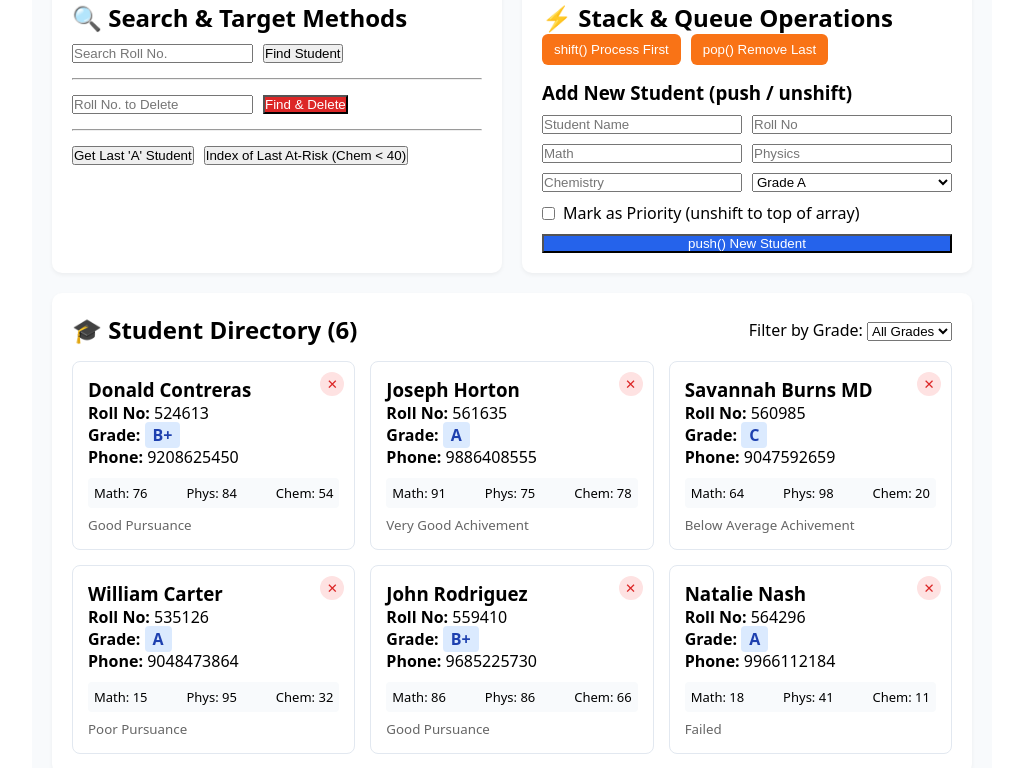
StudentDashboard Component › Card removal by index (handleRemoveCardByIndex - splice) › should remove a specific student card when its delete button is clicked
(page scrolled)
Expected: the heading "Donald Contreras" is shown, [88, 377, 251, 402]
Click the 1st button titled "Remove with splice()": [332, 384] box [320, 372, 344, 396]
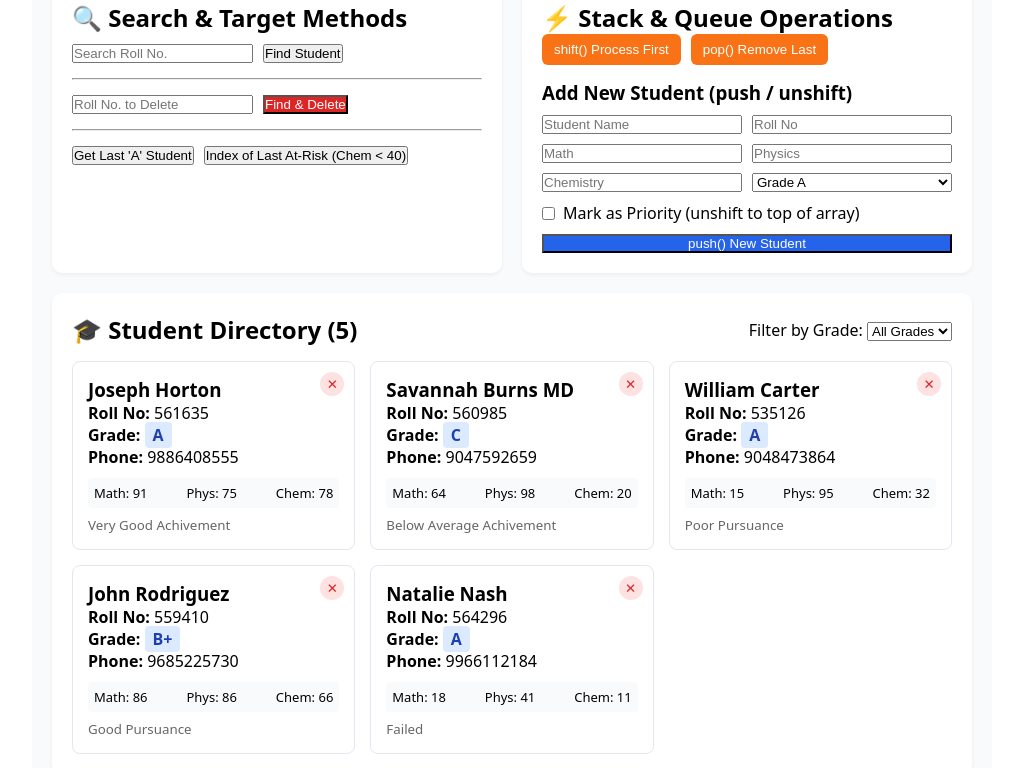
Now the heading "Donald Contreras" is gone
